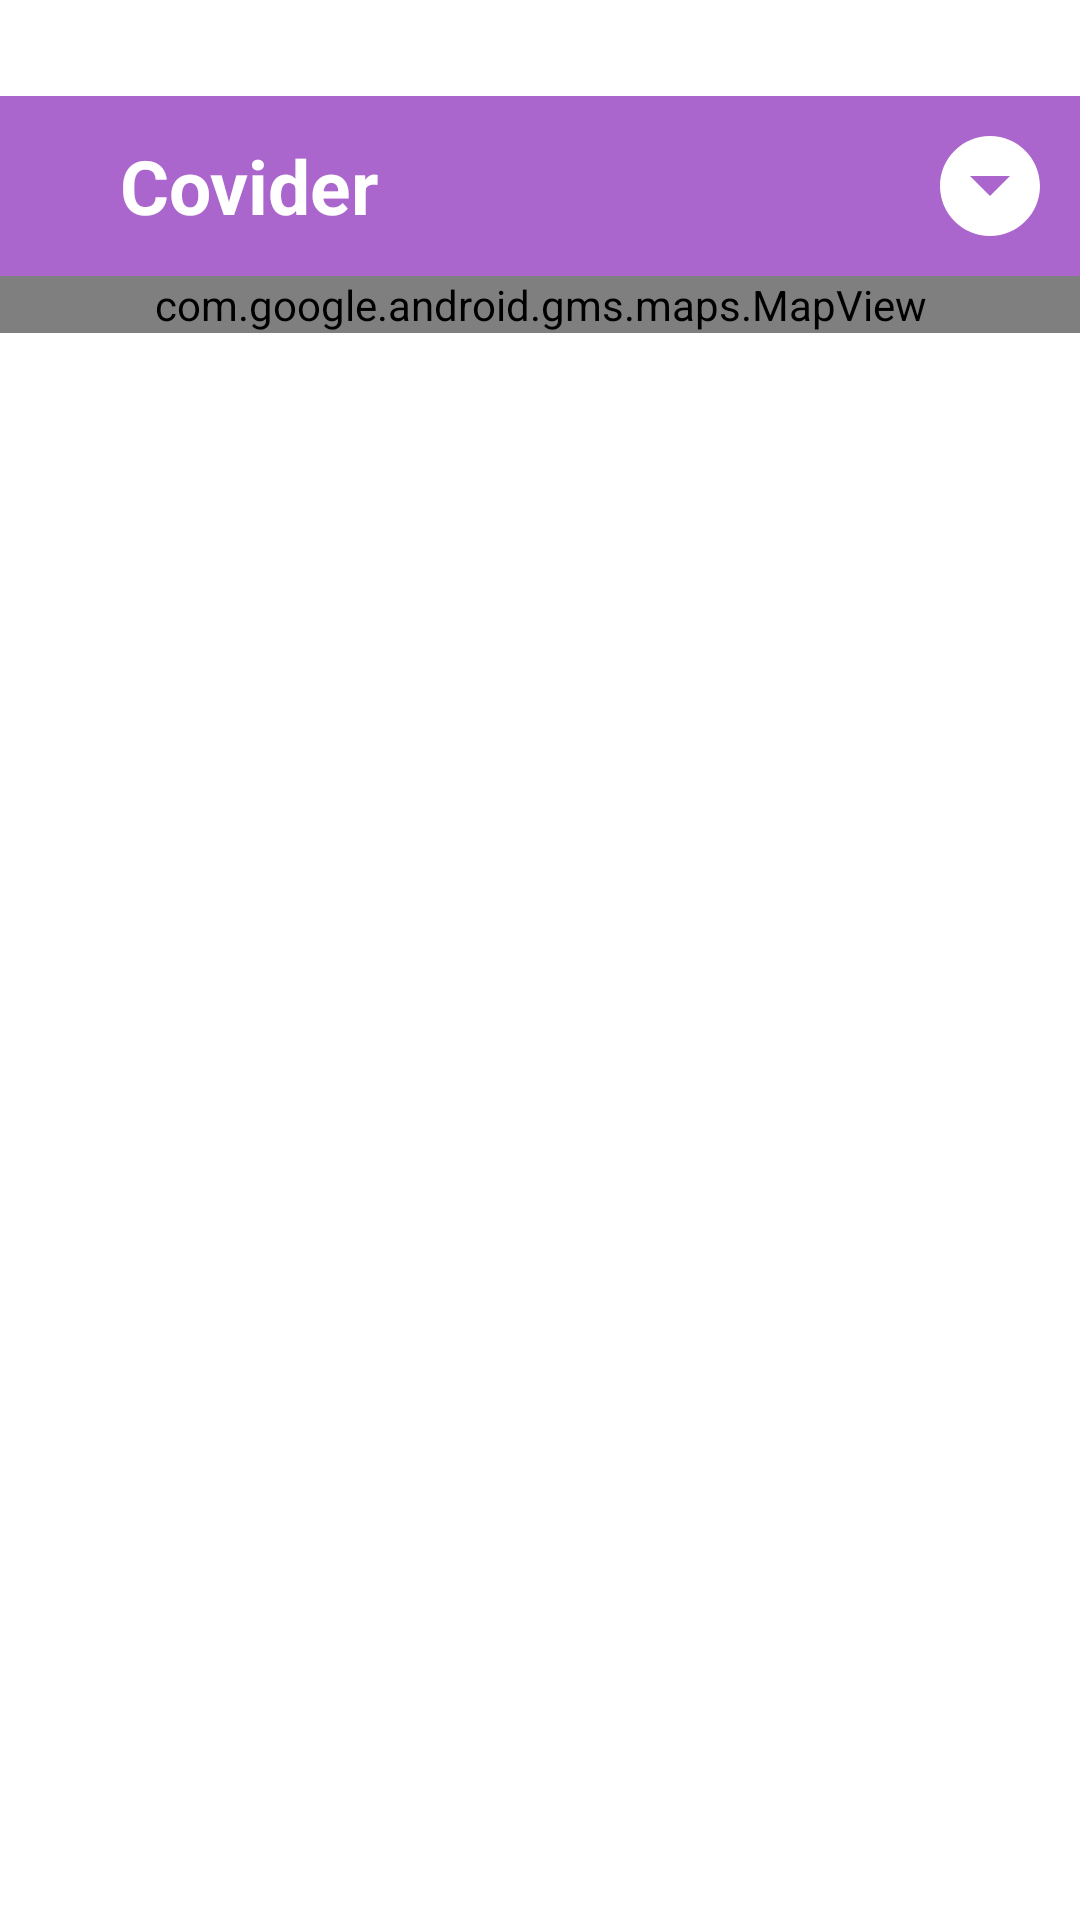

Icons on this 1080 × 1920 Android screen, each with the point to tap as [x,y]:
arrow drop down circle: [990,186]
